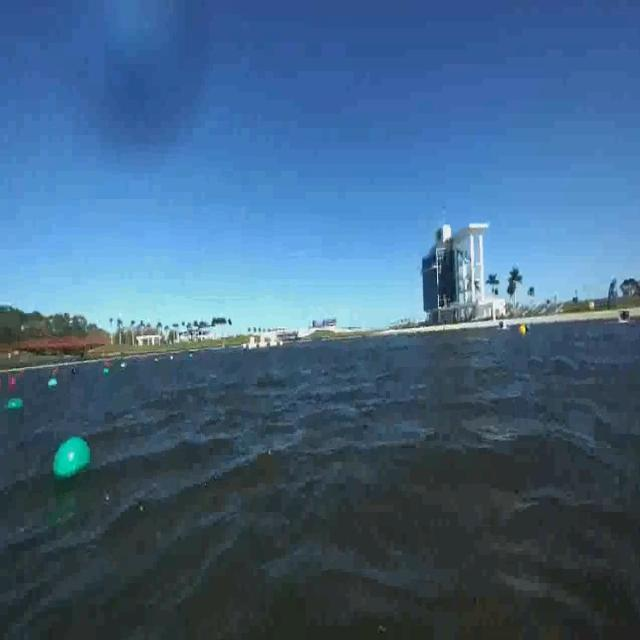green-buoy: (54, 437, 95, 485), (8, 399, 24, 410), (48, 378, 60, 389)
yellow-buoy: (520, 322, 528, 336)
